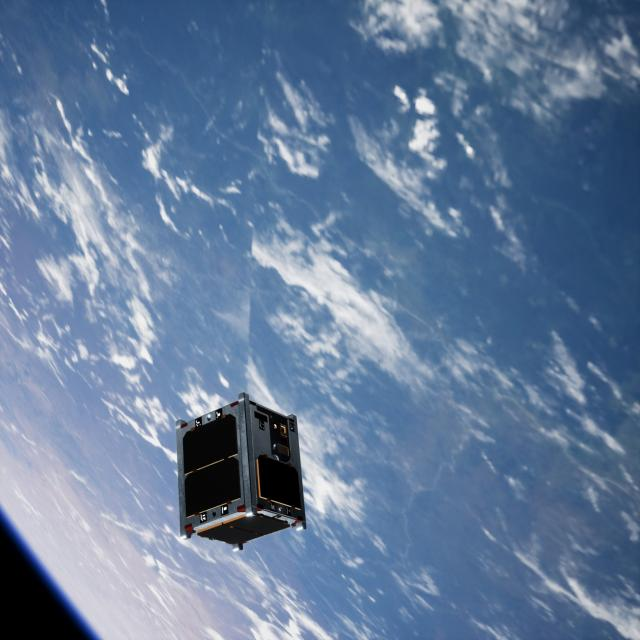satellite: (174, 390, 308, 552)
